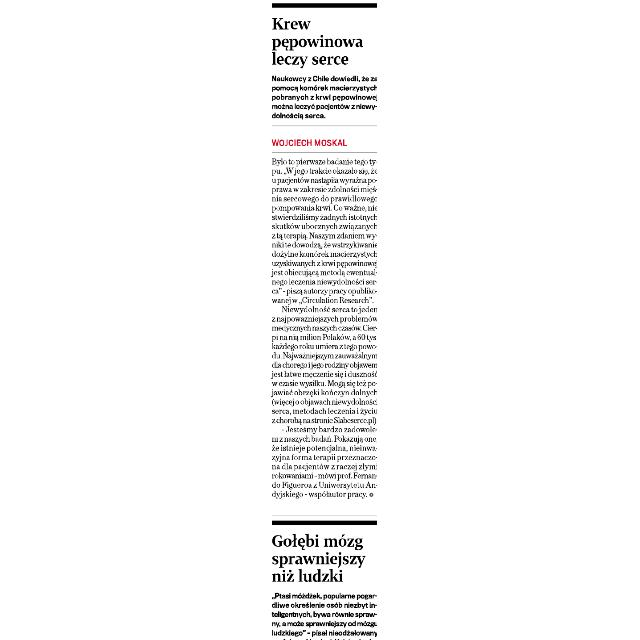author: (268, 132, 352, 150)
body: (268, 156, 377, 504)
lead: (268, 74, 377, 122)
title: (270, 15, 368, 69)
